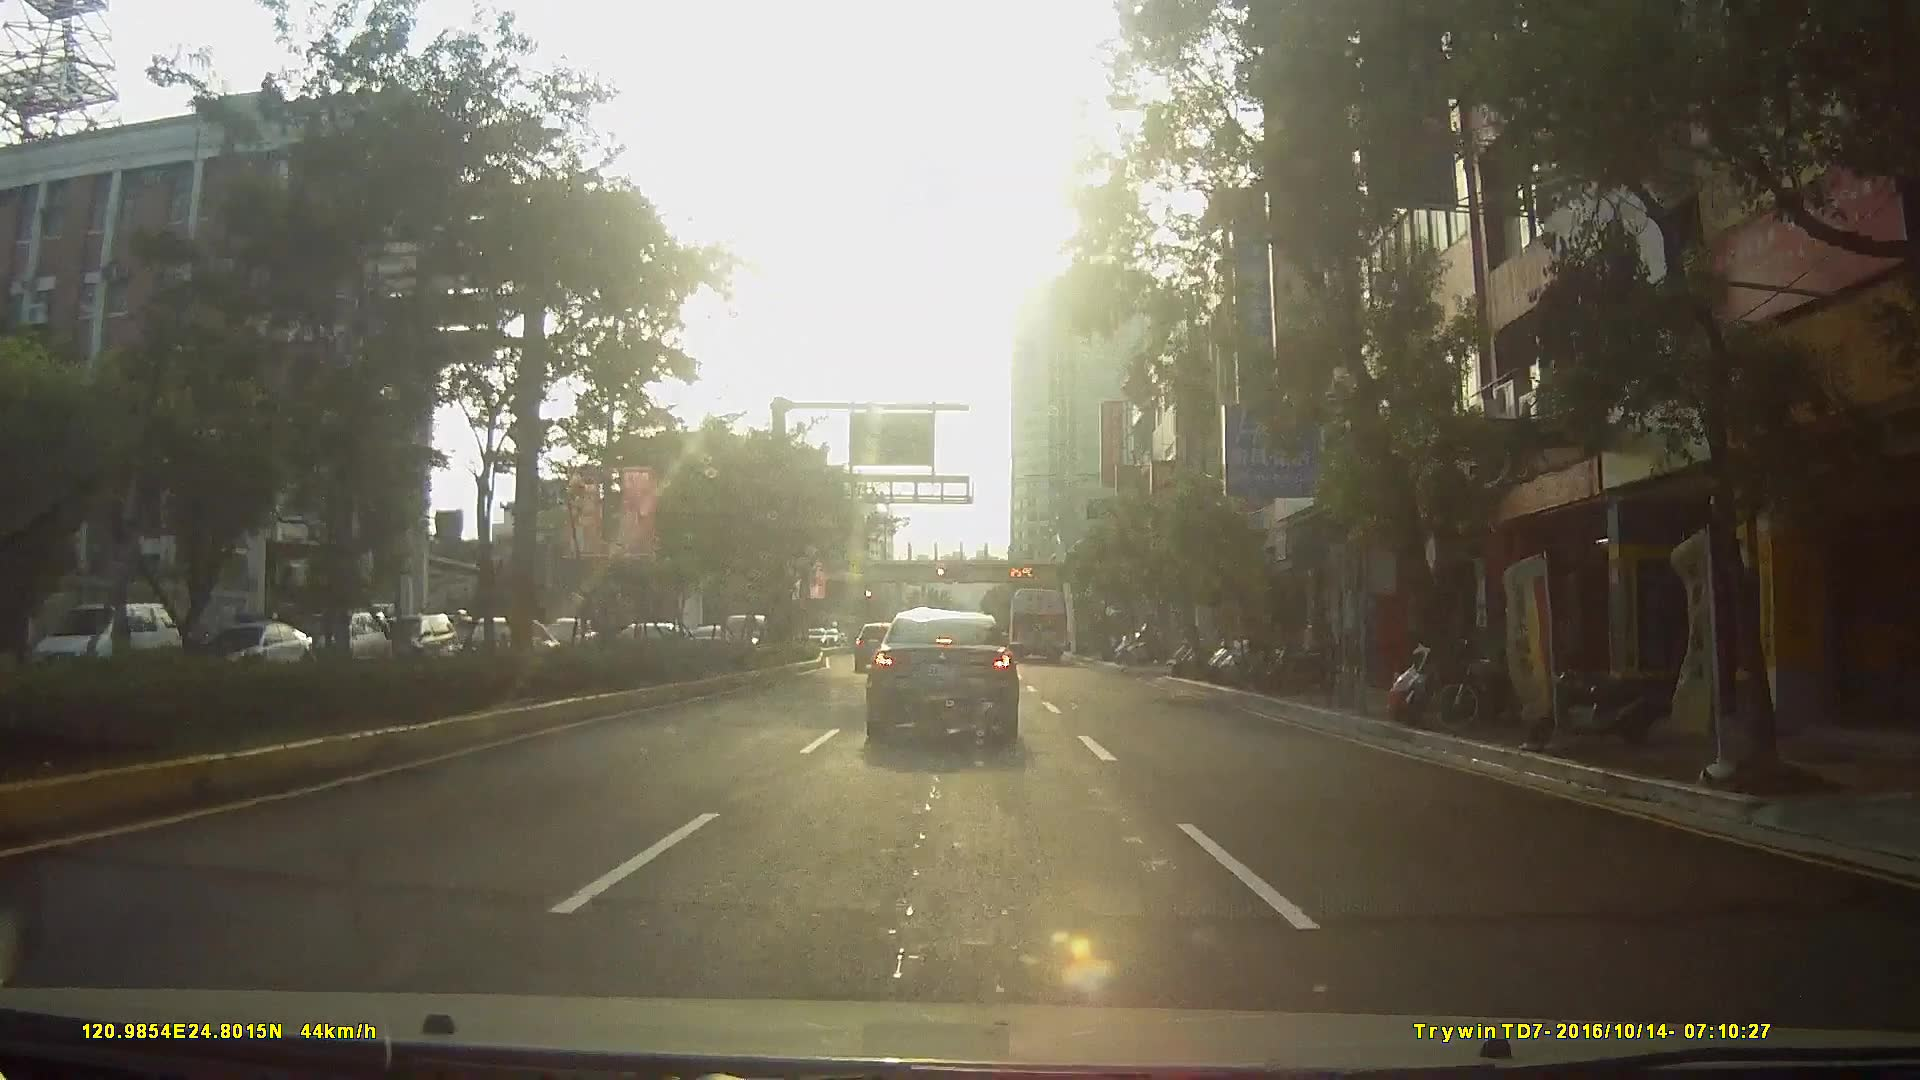vehicle: (861, 607, 1018, 741), (26, 600, 175, 679), (190, 620, 327, 692), (301, 609, 390, 667), (1005, 583, 1069, 659), (376, 612, 450, 666), (477, 612, 541, 653), (851, 621, 897, 671)
